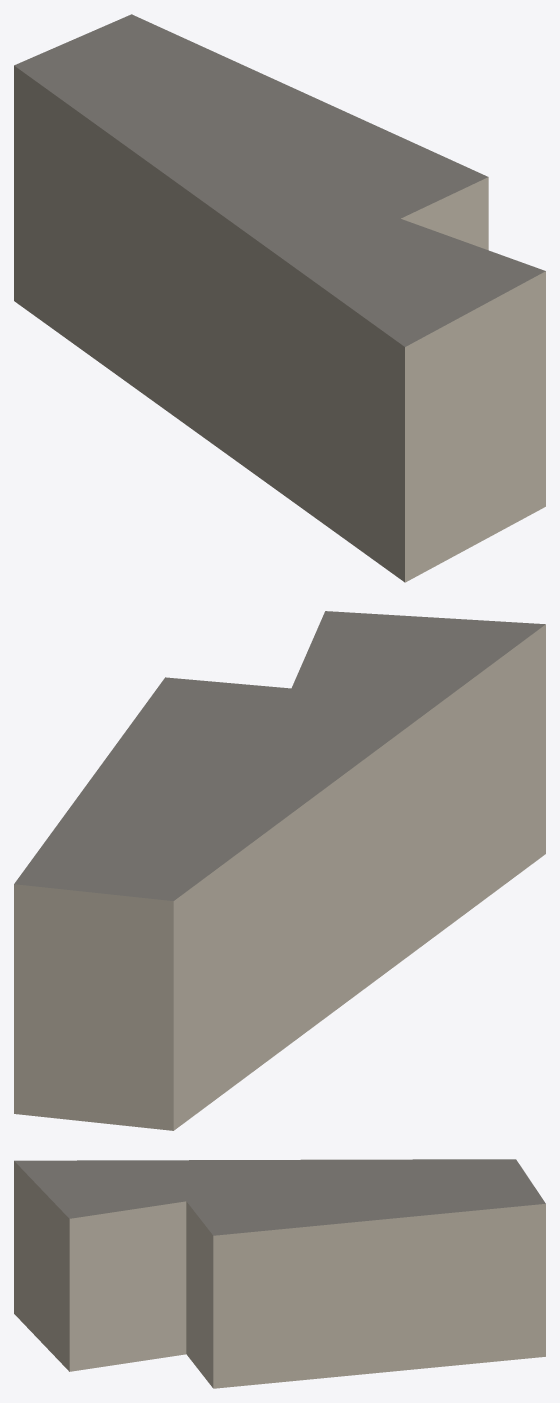
3 renders of one model, top to bottom at view 1: azimuth 30°, elevation 25°; view 2: azimuth 150°, elevation 25°; view 3: azimuth 270°, elevation 25°, orthographic. The views are drawn at different scales.
Visible parts, largest first — view 1: HP-w380340019; view 2: HP-w380340019; view 3: HP-w380340019.
Part boxes in pixels (x1,y1,x2,y2): HP-w380340019: (14,14,545,582); HP-w380340019: (14,611,545,1130); HP-w380340019: (14,1159,545,1388).
Size of the model in its own units: 16.1 by 15 by 47.27.
